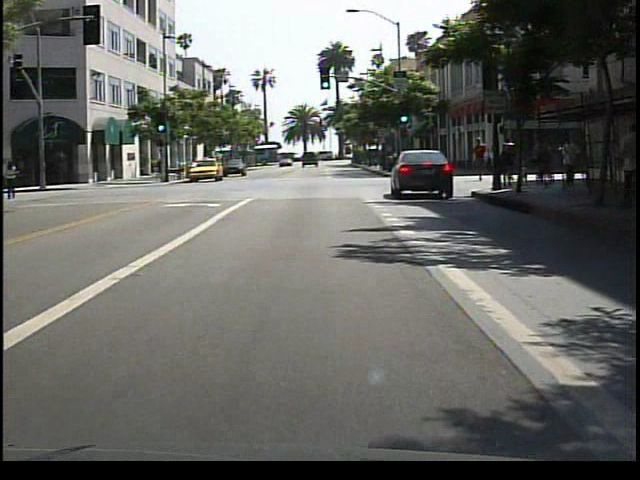person: (470, 134, 495, 186)
